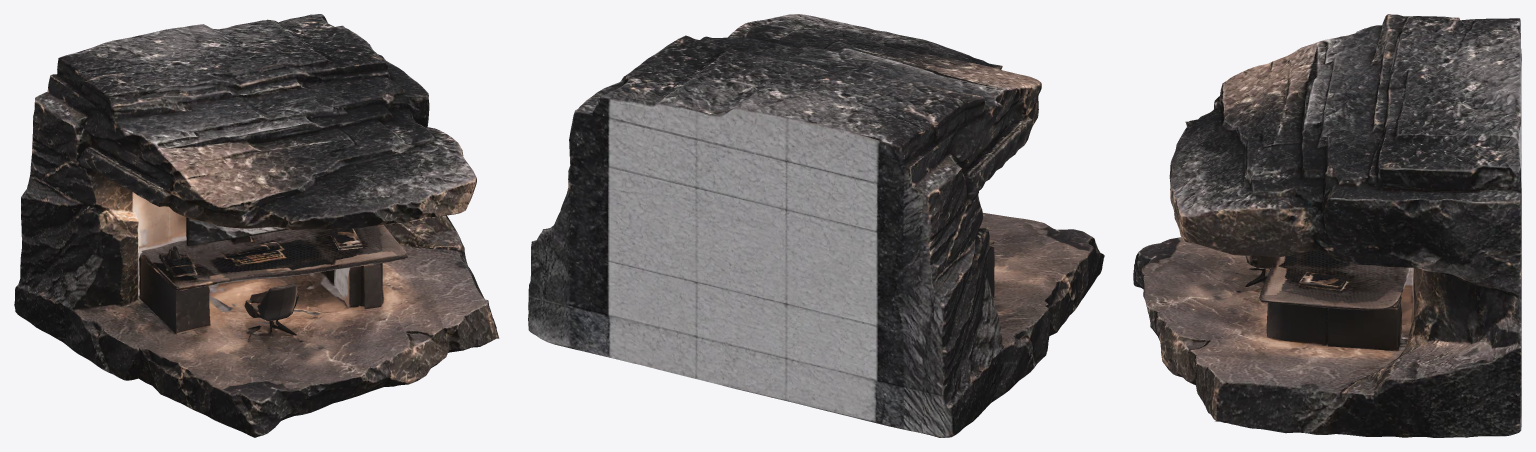
The model's file is studio-mobile.glb.
3 views of the same model, side by side, from view 1: azimuth 30°, elevation 25°; view 2: azimuth 150°, elevation 25°; view 3: azimuth 270°, elevation 25° (orthographic). The views are drawn at different scales.
Visible parts, largest first — view 1: Mesh0; view 2: Mesh0; view 3: Mesh0.
Part boxes in pixels (x1,y1,x2,y2): Mesh0: (14, 14, 499, 437); Mesh0: (528, 14, 1104, 437); Mesh0: (1133, 14, 1521, 437).
Bounding box in the file's own units: 1.89 × 1.21 × 1.63.
1 material, 1 textured.
